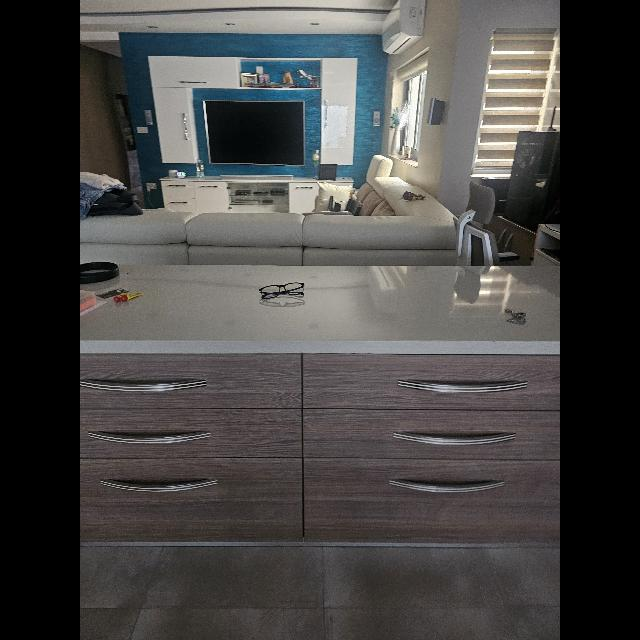glasses: (259, 282, 305, 300), (259, 298, 305, 308)
